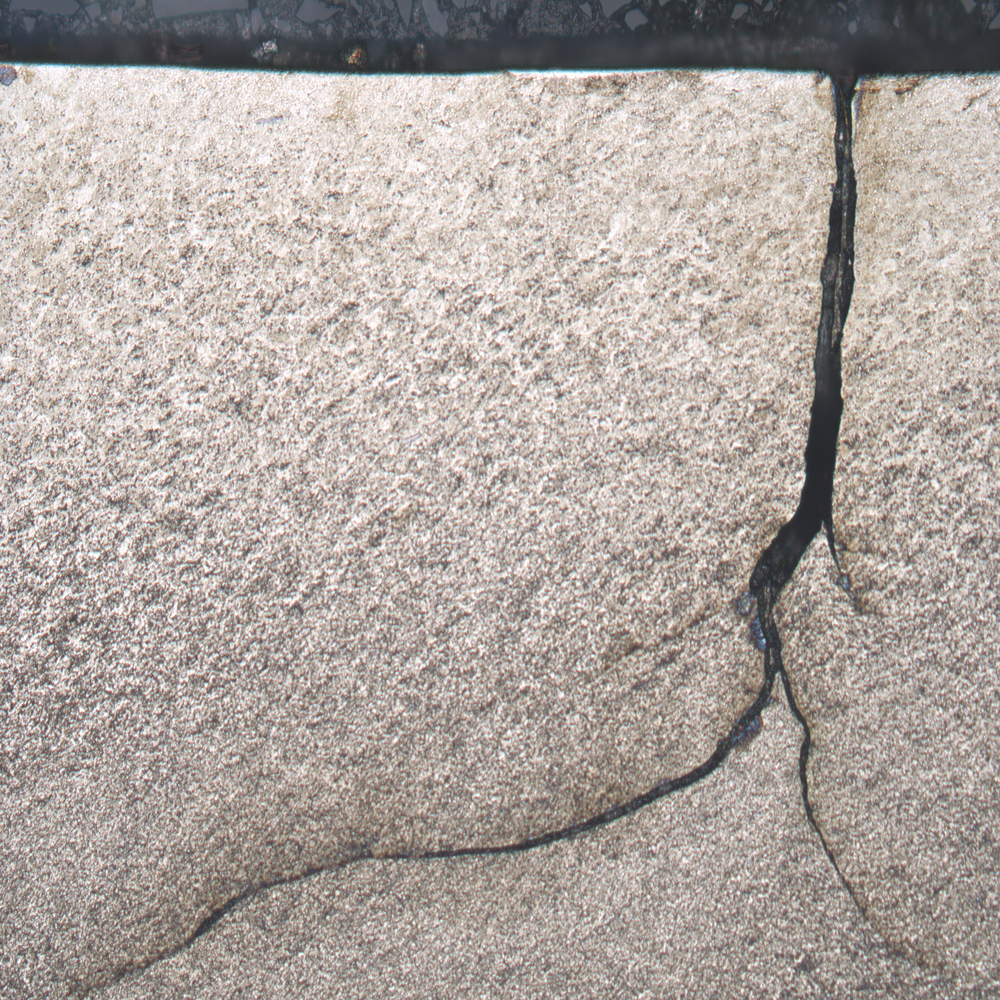crack: (85, 66, 916, 995)
